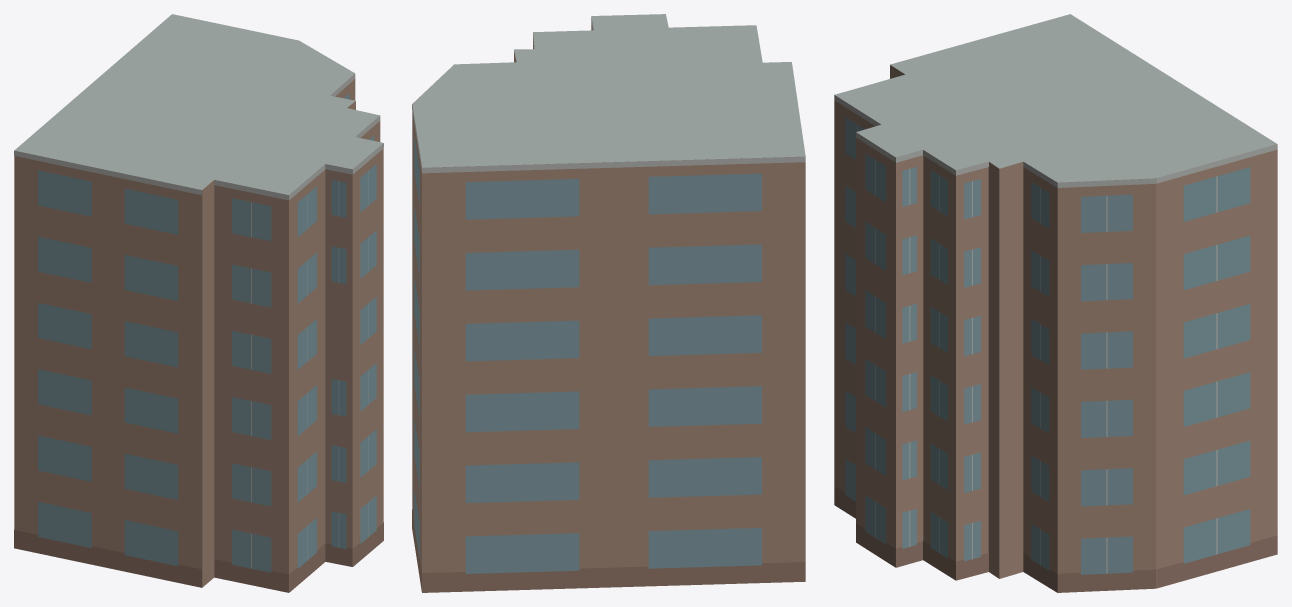
The model's file is survey-upis-32893443.glb.
3 views of the same model, side by side, from view 1: azimuth 30°, elevation 25°; view 2: azimuth 150°, elevation 25°; view 3: azimuth 270°, elevation 25° (orthographic). The views are drawn at different scales.
Parts seen in each view (by area): view 1: survey-upis-32893443.tmp; view 2: survey-upis-32893443.tmp; view 3: survey-upis-32893443.tmp.
Boxes of the visible parts, x1,y1,x2,y2 form: survey-upis-32893443.tmp: (14, 14, 383, 592); survey-upis-32893443.tmp: (412, 14, 805, 592); survey-upis-32893443.tmp: (834, 14, 1277, 592).
Size of the model in its own units: 16.32 by 18.5 by 18.12.
